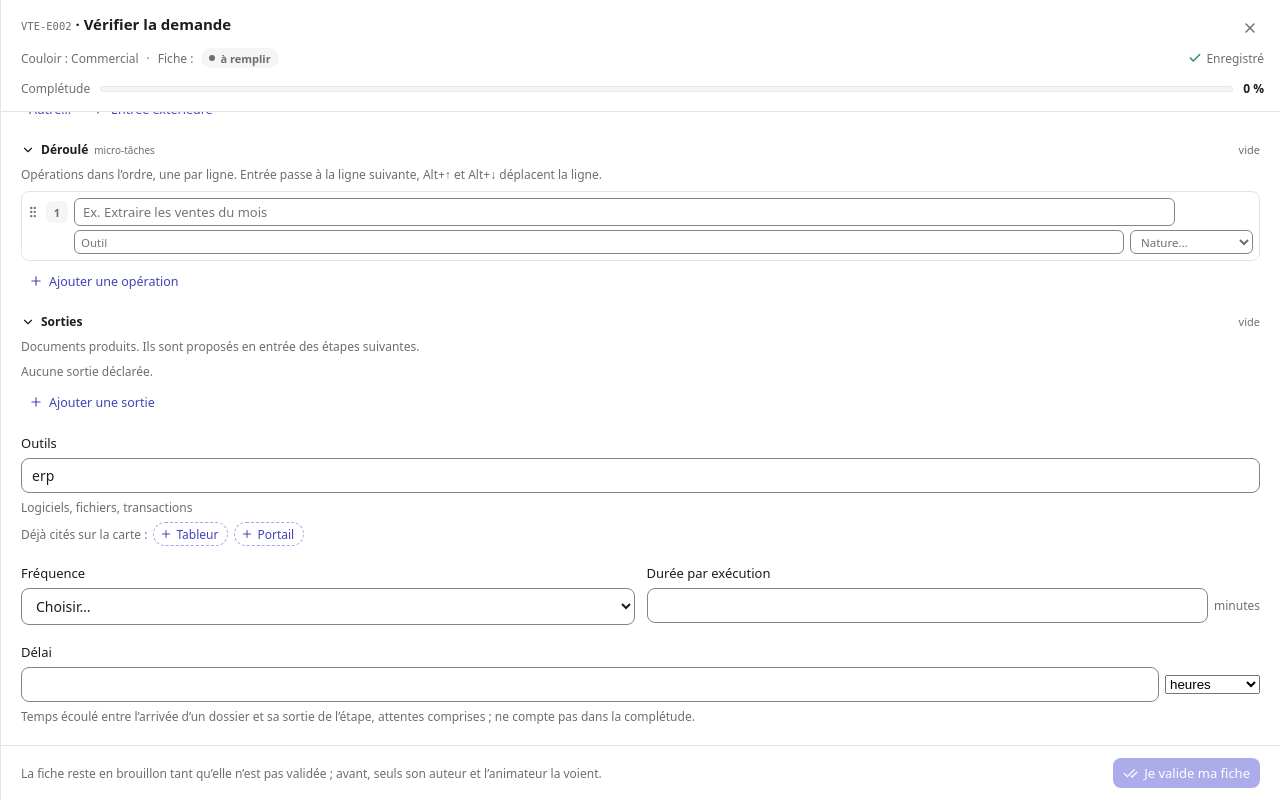
it: the tools (B-4-24, B-4-25) › a field of 4000 characters; a pill « + outil » for each tool cited on the map and not here, which adds it after the others
(page scrolled)
Click the button "Tableur" at [191, 534], box [153,522,228,546]
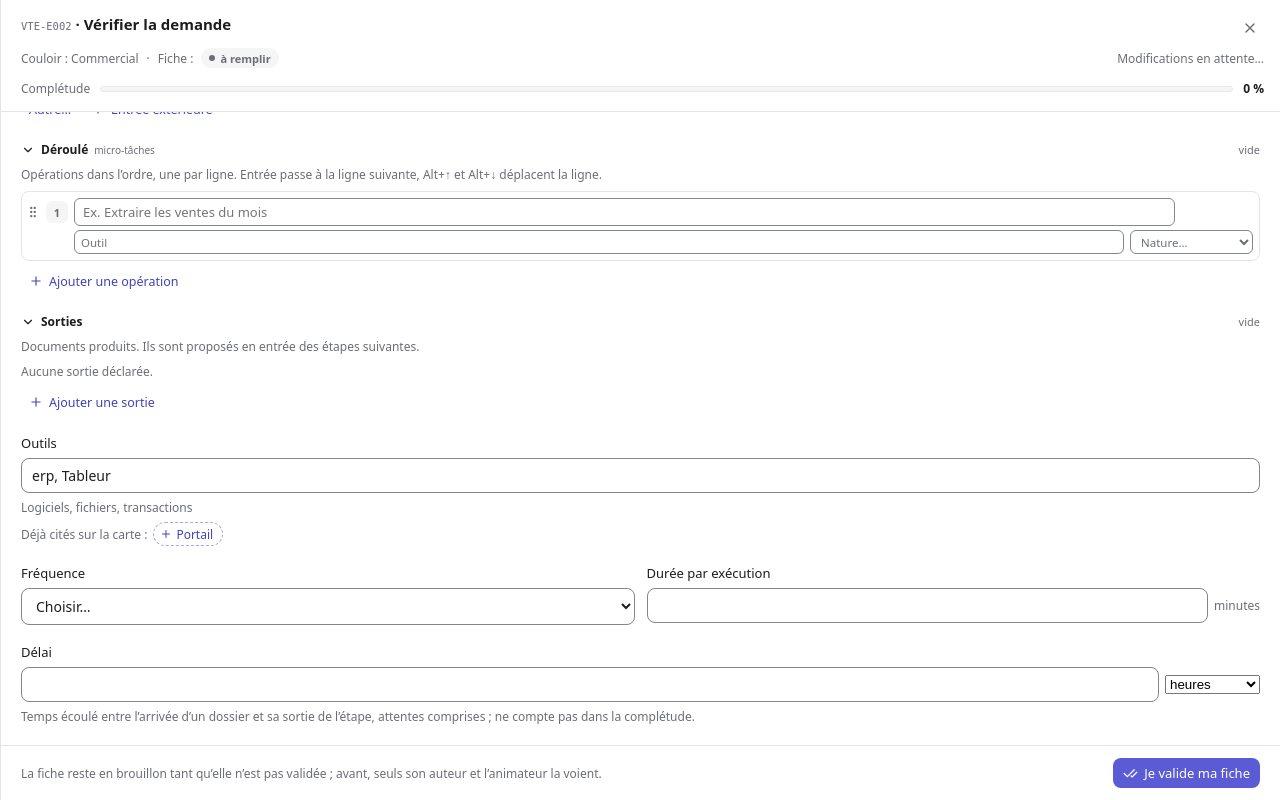
Expected: the field labelled "Outils" holds "erp, Tableur", [21,458,1260,493]
Click the button with aria-label "Ajouter Portail" at [188, 534], box [153,522,223,546]
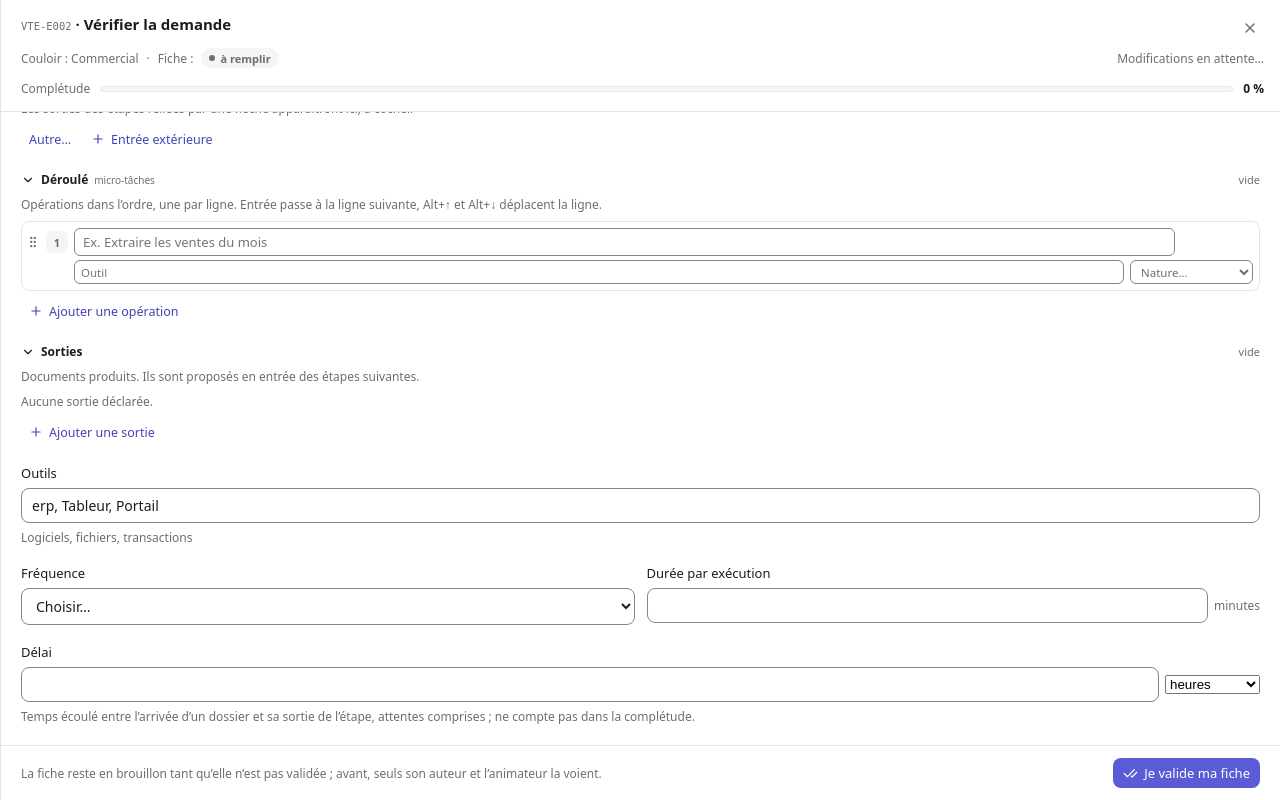
Expected: the element with test id "sheet-tool-suggestions" is gone
